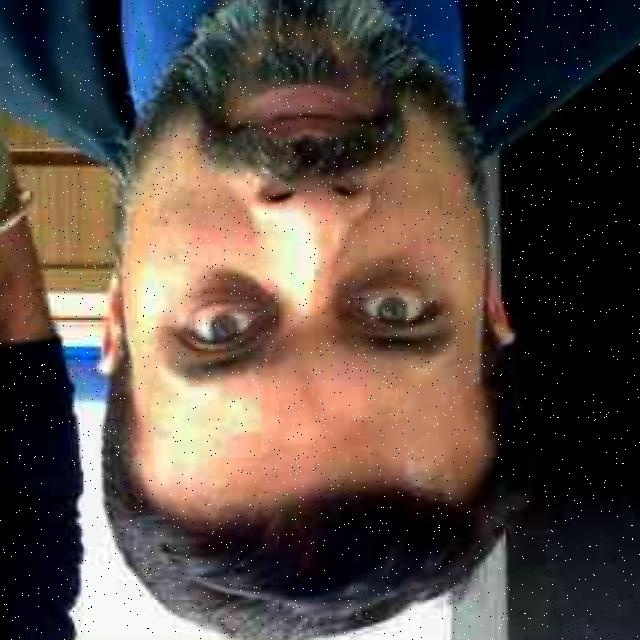puffy_eyes: (334, 261, 423, 320), (189, 272, 275, 305)
